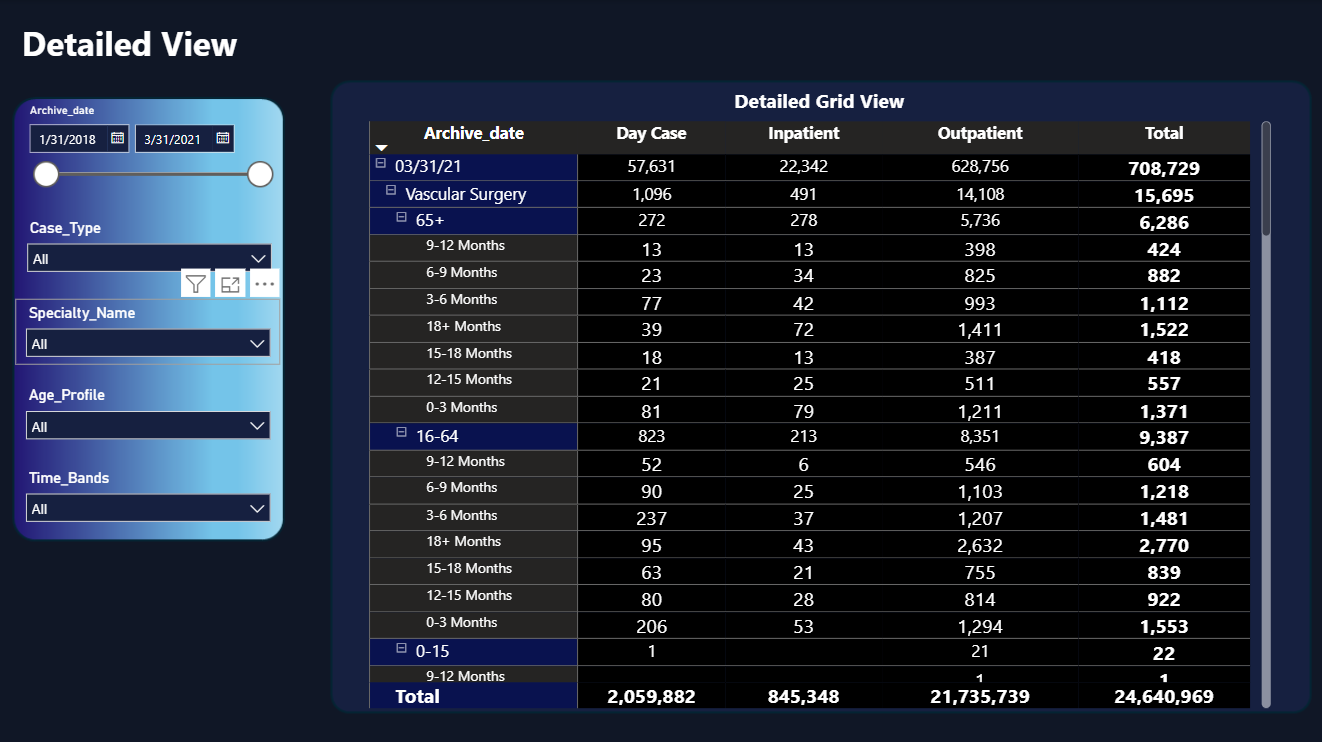

The page's visual inventory and layout, read from the dashboard file:
{"tool":"powerbi","page":{"name":"Detail","canvas":[1280,720],"ordinal":1},"visuals":[{"type":"slicer","fields":{"Values":["All_Data.Case_Type"]},"box":[17,206.8,256,64],"z":0},{"type":"textbox","box":[17,14.8,256,64],"z":1000},{"type":"slicer","fields":{"Values":["All_Data.Archive_date"]},"box":[17,94.8,256,96],"z":2000},{"type":"pivotTable","fields":{"Rows":["All_Data.Archive_date","All_Data.Specialty_Name","All_Data.Age_Profile","All_Data.Time_Bands"],"Columns":["All_Data.Case_Type"],"Values":["Sum(All_Data.Total)"]},"box":[352,112,880,576],"z":3000},{"type":"slicer","fields":{"Values":["All_Data.Specialty_Name"]},"box":[16,288,256,64],"z":4000},{"type":"slicer","fields":{"Values":["All_Data.Age_Profile"]},"box":[16,368,256,64],"z":5000},{"type":"slicer","fields":{"Values":["All_Data.Time_Bands"]},"box":[16,448,256,64],"z":6000},{"type":"textbox","box":[624,80,336,48],"z":7000}]}

Visuals, with their boxes in screenshot pixels (x1, y1, x2, y2), scaled from the page's 1280x720 canvas onto the 1322x742 screenshot:
slicer - All_Data.Case_Type: bbox(18, 213, 282, 279)
textbox: bbox(18, 15, 282, 81)
slicer - All_Data.Archive_date: bbox(18, 98, 282, 197)
pivotTable - All_Data.Archive_date x All_Data.Specialty_Name: bbox(364, 115, 1272, 709)
slicer - All_Data.Specialty_Name: bbox(17, 297, 281, 363)
slicer - All_Data.Age_Profile: bbox(17, 379, 281, 445)
slicer - All_Data.Time_Bands: bbox(17, 462, 281, 528)
textbox: bbox(644, 82, 991, 132)
